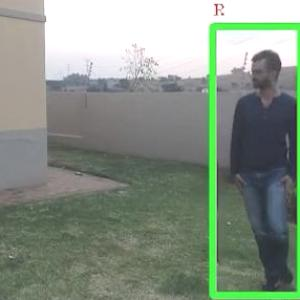follow: (219, 41, 288, 284)
